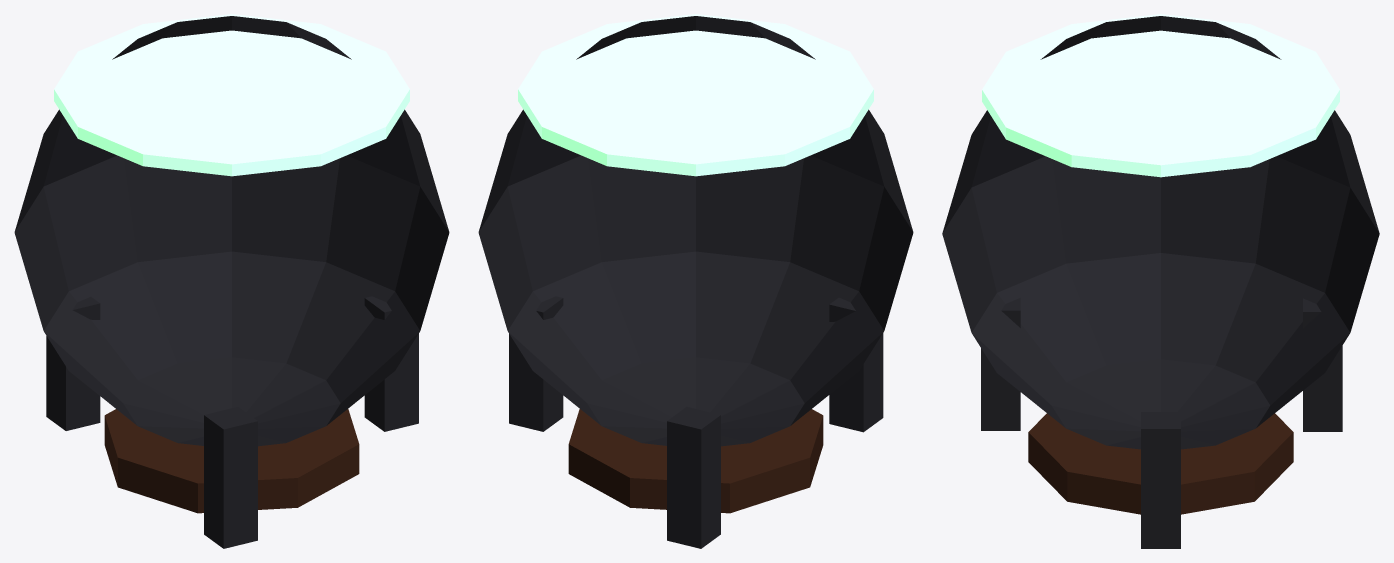
File: lab-cauldron.glb
3 renders of one model, left to right at view 1: azimuth 30°, elevation 25°; view 2: azimuth 150°, elevation 25°; view 3: azimuth 270°, elevation 25°, orthographic.
Visible parts, largest first — view 1: lab-cauldron; view 2: lab-cauldron; view 3: lab-cauldron.
Boxes of the visible parts, x1,y1,x2,y2 form: lab-cauldron: (14, 14, 449, 548); lab-cauldron: (478, 14, 913, 548); lab-cauldron: (942, 14, 1379, 548).
Bounding box in the file's own units: 0.66 × 0.71 × 0.66.
